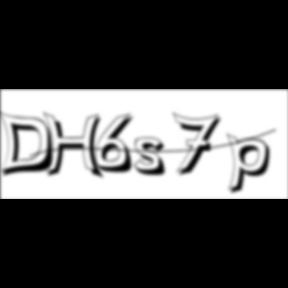6: (94, 112, 140, 176)
7: (172, 111, 228, 179)
D: (0, 110, 60, 180)
H: (43, 112, 109, 182)
p: (227, 132, 277, 198)
s: (134, 137, 172, 179)
